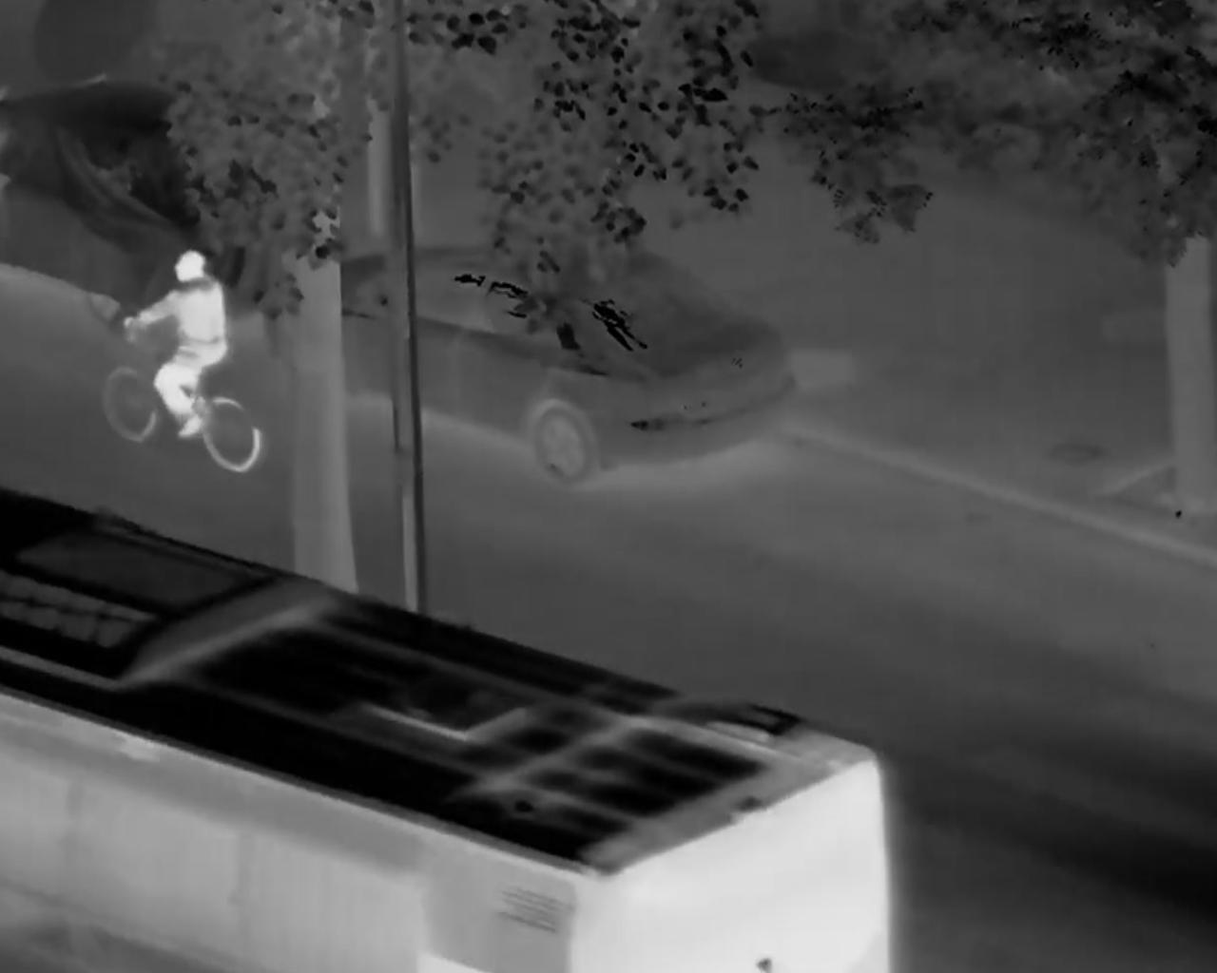person: (120, 250, 228, 440)
